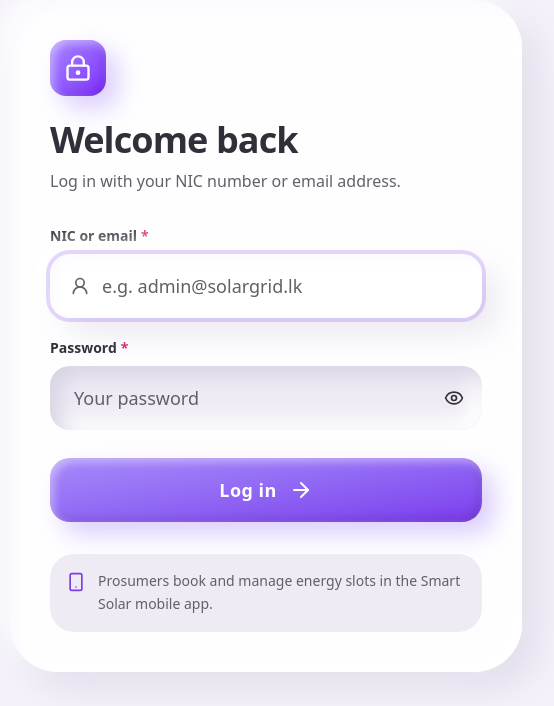
Scenario: LoginPage › shows field problems under the inputs
The width and height of the screenshot is (554, 706).
Click the button "Log in".
click(266, 490)  # box x1=50 y1=458 x2=482 y2=522
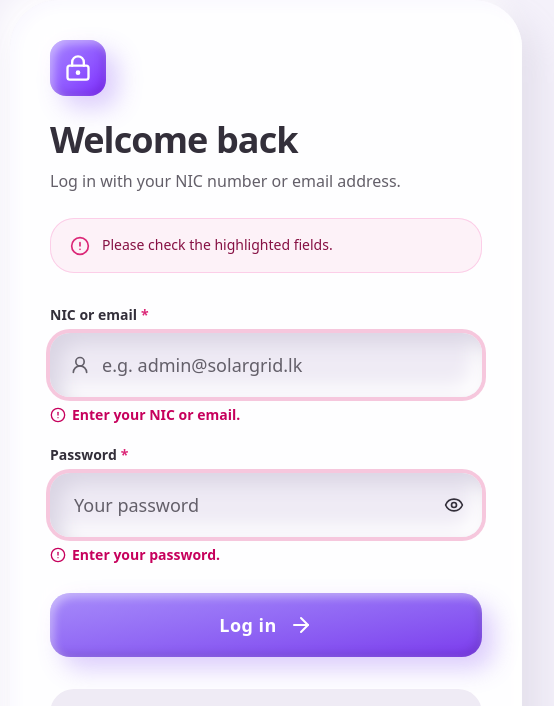
Expected: the text "Enter your NIC or email." is shown, x1=50 y1=405 x2=240 y2=424
Expected: the message reads "Please check the highlighted fields.", x1=102 y1=235 x2=333 y2=254
